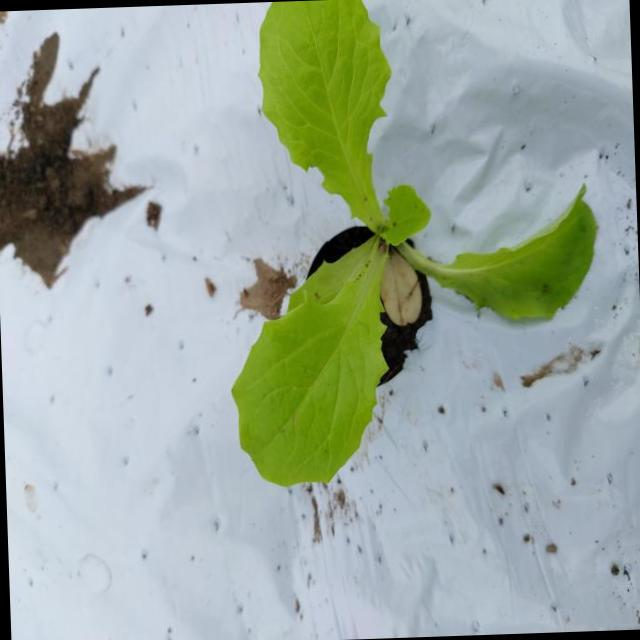Lettuce-Not-Ready-to-Harvest: (233, 0, 429, 484), (400, 195, 596, 317)
